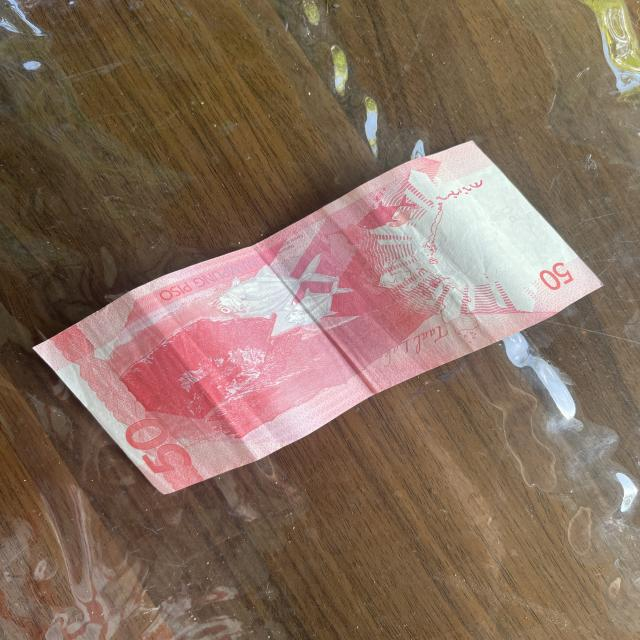50_maliputo: (212, 255, 346, 338)
50_maliputo_watermark: (351, 188, 431, 234)
